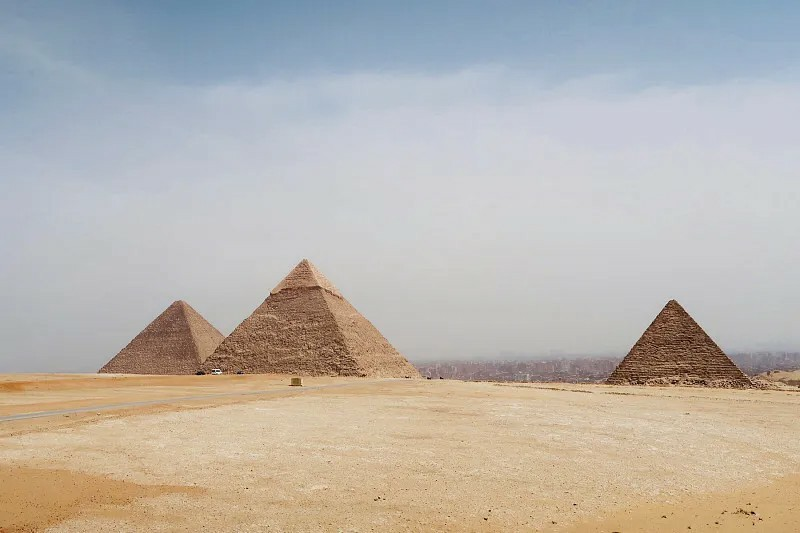Pyramid: (200, 258, 424, 380), (605, 300, 759, 390), (100, 300, 226, 375)
